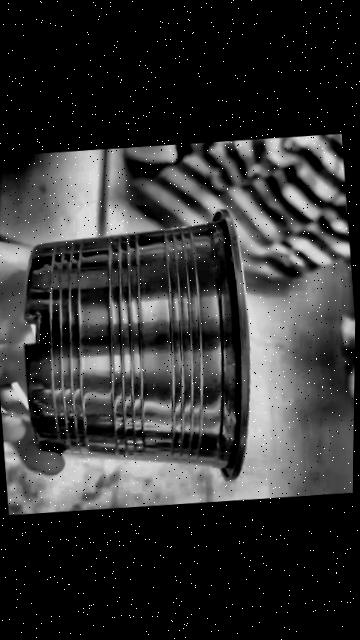pot: (25, 209, 248, 478)
